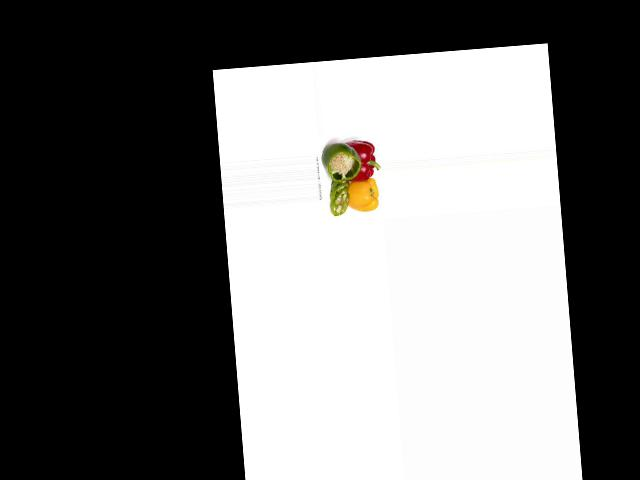bell_pepper: (323, 137, 363, 183)
